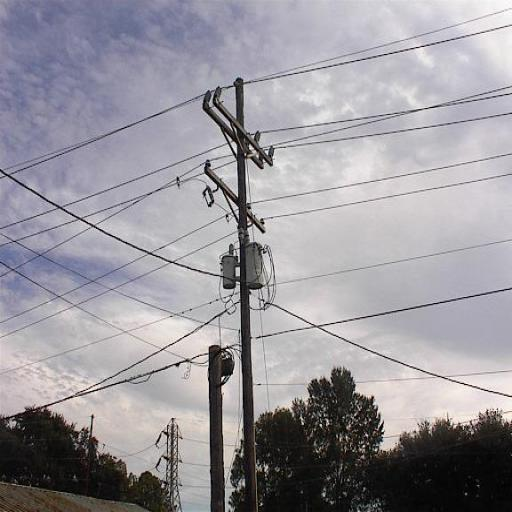mono_8: (201, 76, 277, 511)
